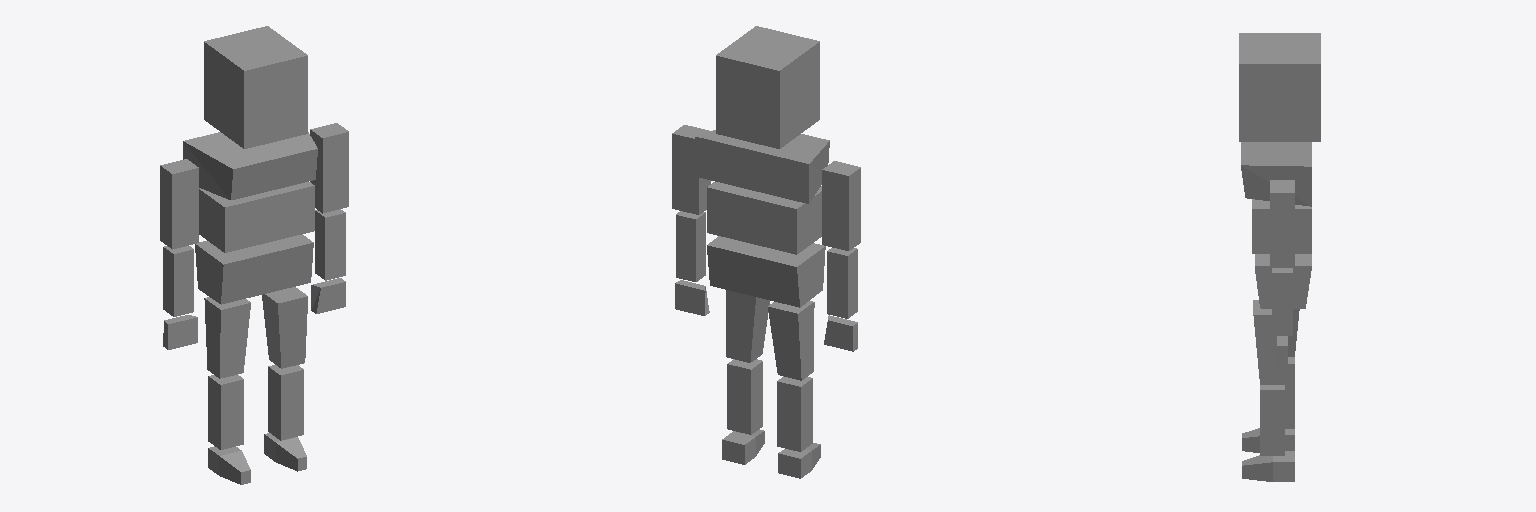
File: person.obj
3 renders of one model, left to right at view 1: azimuth 30°, elevation 25°; view 2: azimuth 150°, elevation 25°; view 3: azimuth 270°, elevation 25°, orthographic.
Visible parts, largest first — view 1: Cube; view 2: Cube; view 3: Cube.
Boxes of the visible parts, x1=… form: Cube: x1=160, y1=26, x2=348, y2=484; Cube: x1=672, y1=26, x2=860, y2=478; Cube: x1=1239, y1=33, x2=1320, y2=481.
Size of the model in its own units: 0.4757 by 1.06 by 0.1878.